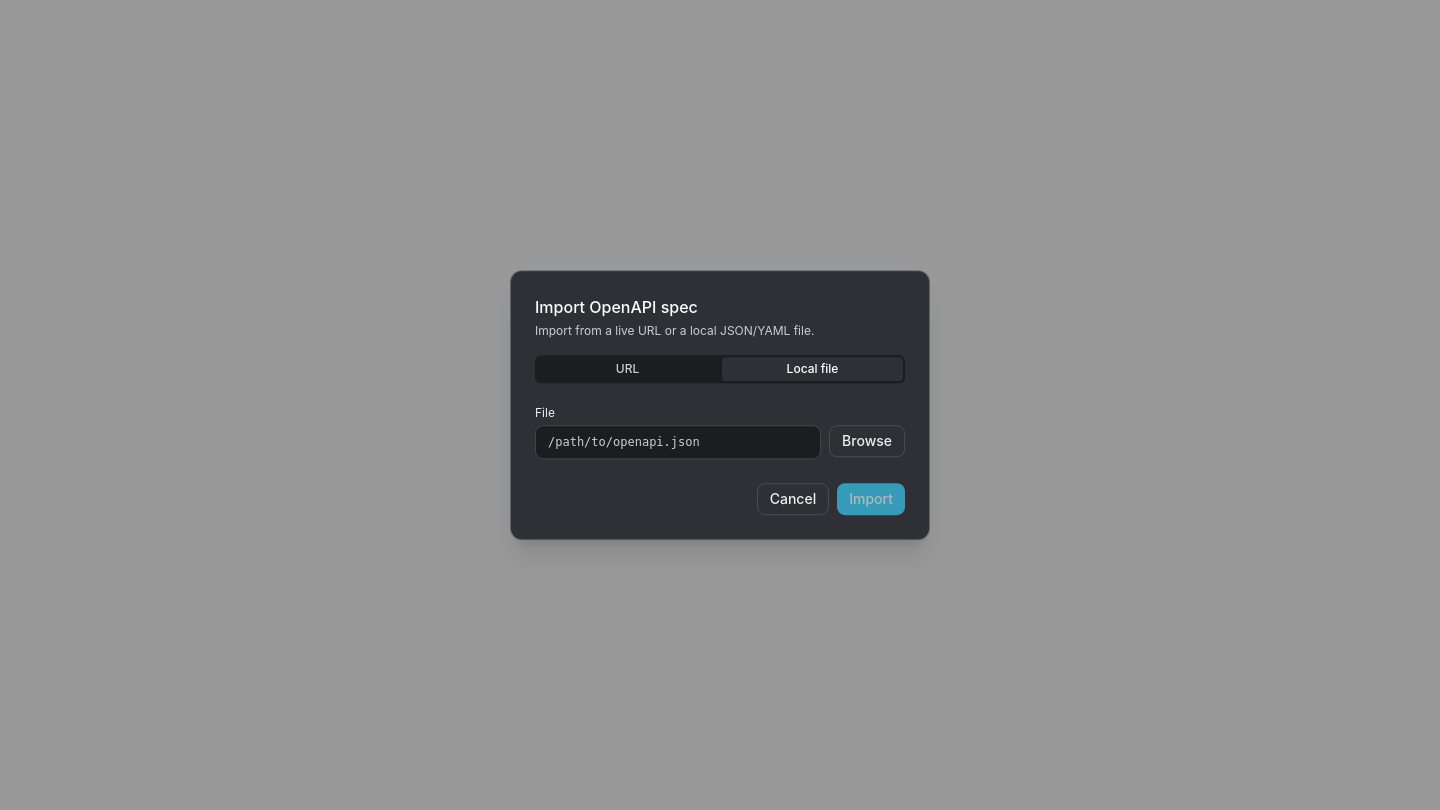
Test: ImportSpecDialog › shows conflict state when import returns conflict
The width and height of the screenshot is (1440, 810).
Click the radio button with test id "import-mode-url". click: coordinates (628, 369)
box: [537, 357, 718, 381]
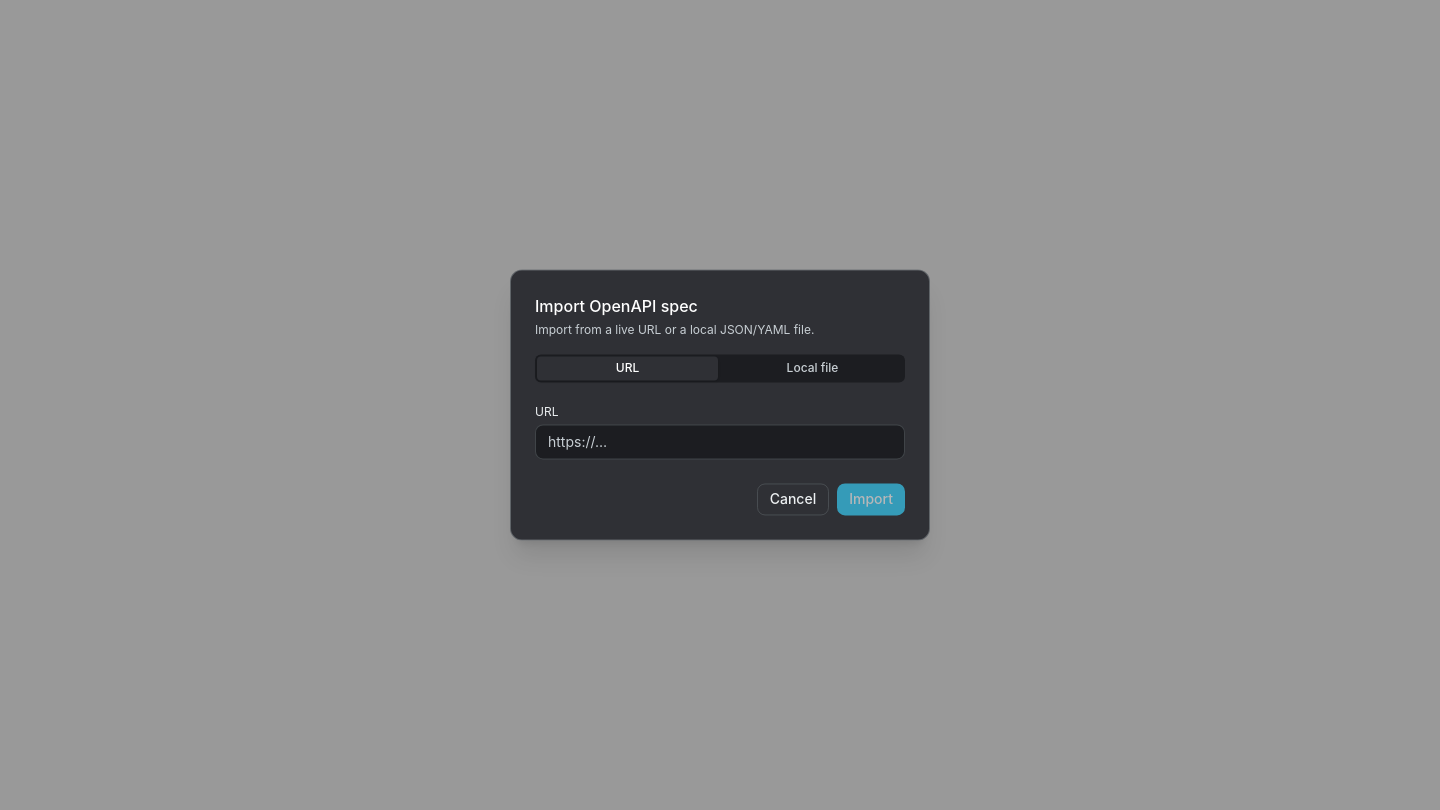
Type "https://example.com/spec.json" into the field with test id "import-spec-url-input". click: coordinates (720, 442)
box: [535, 424, 905, 460]
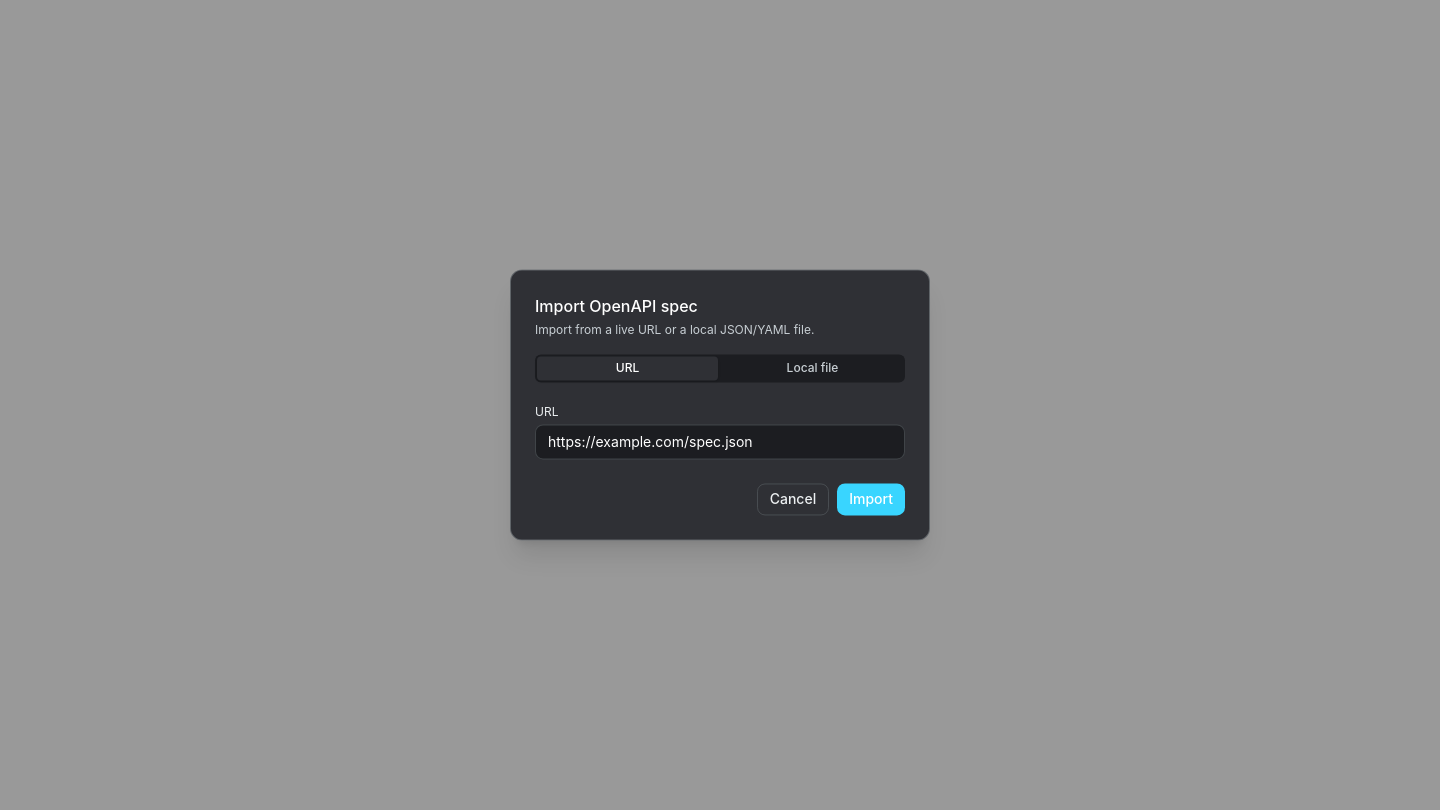
Click the button with test id "import-spec-submit". click: coordinates (871, 500)
box: [837, 484, 905, 516]
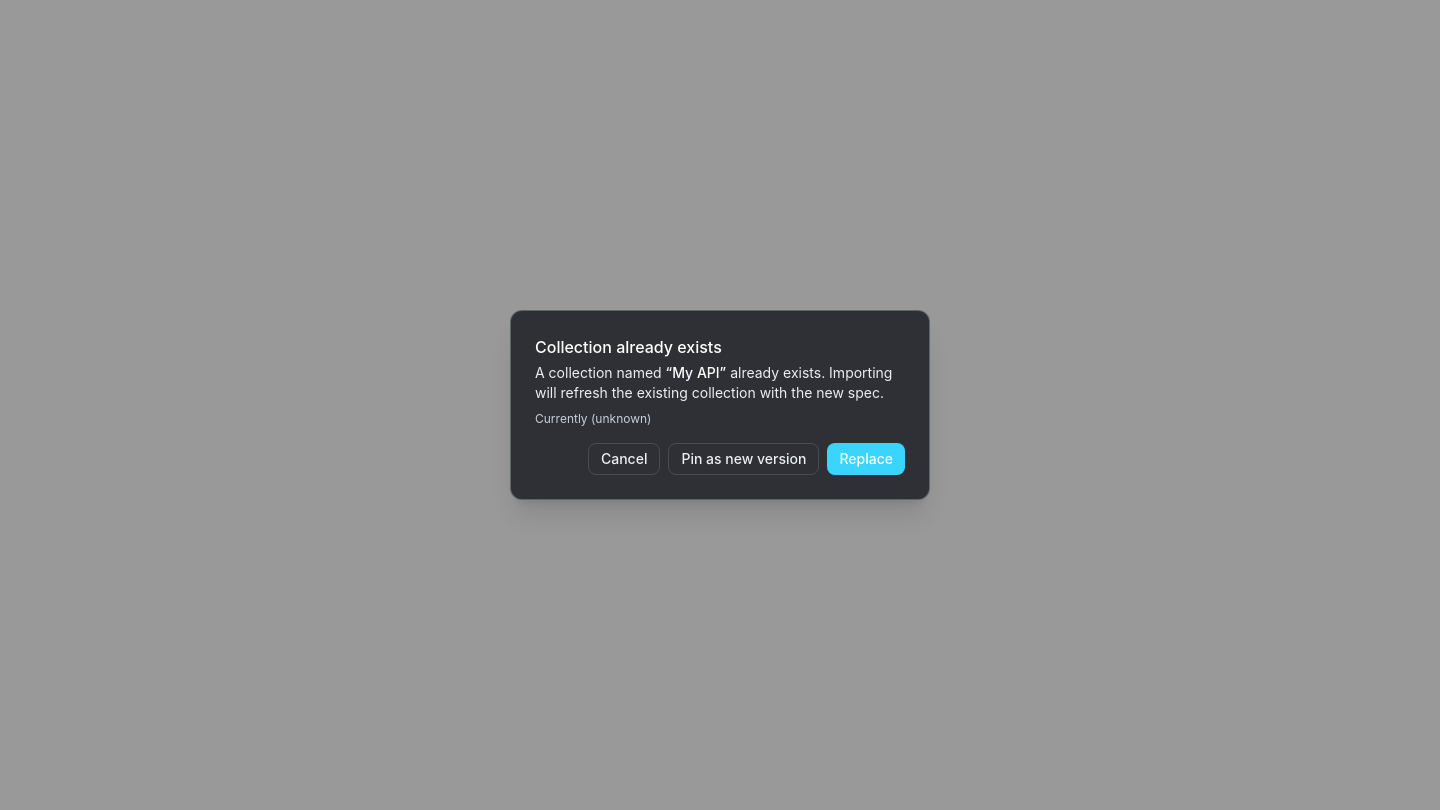
Expected: the element with test id "import-conflict-message" is shown, [535, 363, 905, 403]
Expected: the button with test id "import-conflict-replace" is shown, [828, 443, 905, 475]
Expected: the button with test id "import-conflict-cancel" is shown, [588, 443, 660, 475]
